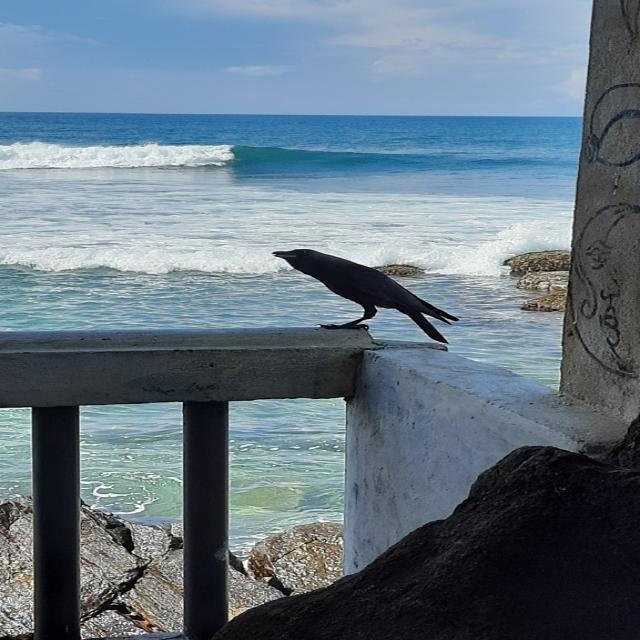bird: (268, 246, 460, 346)
